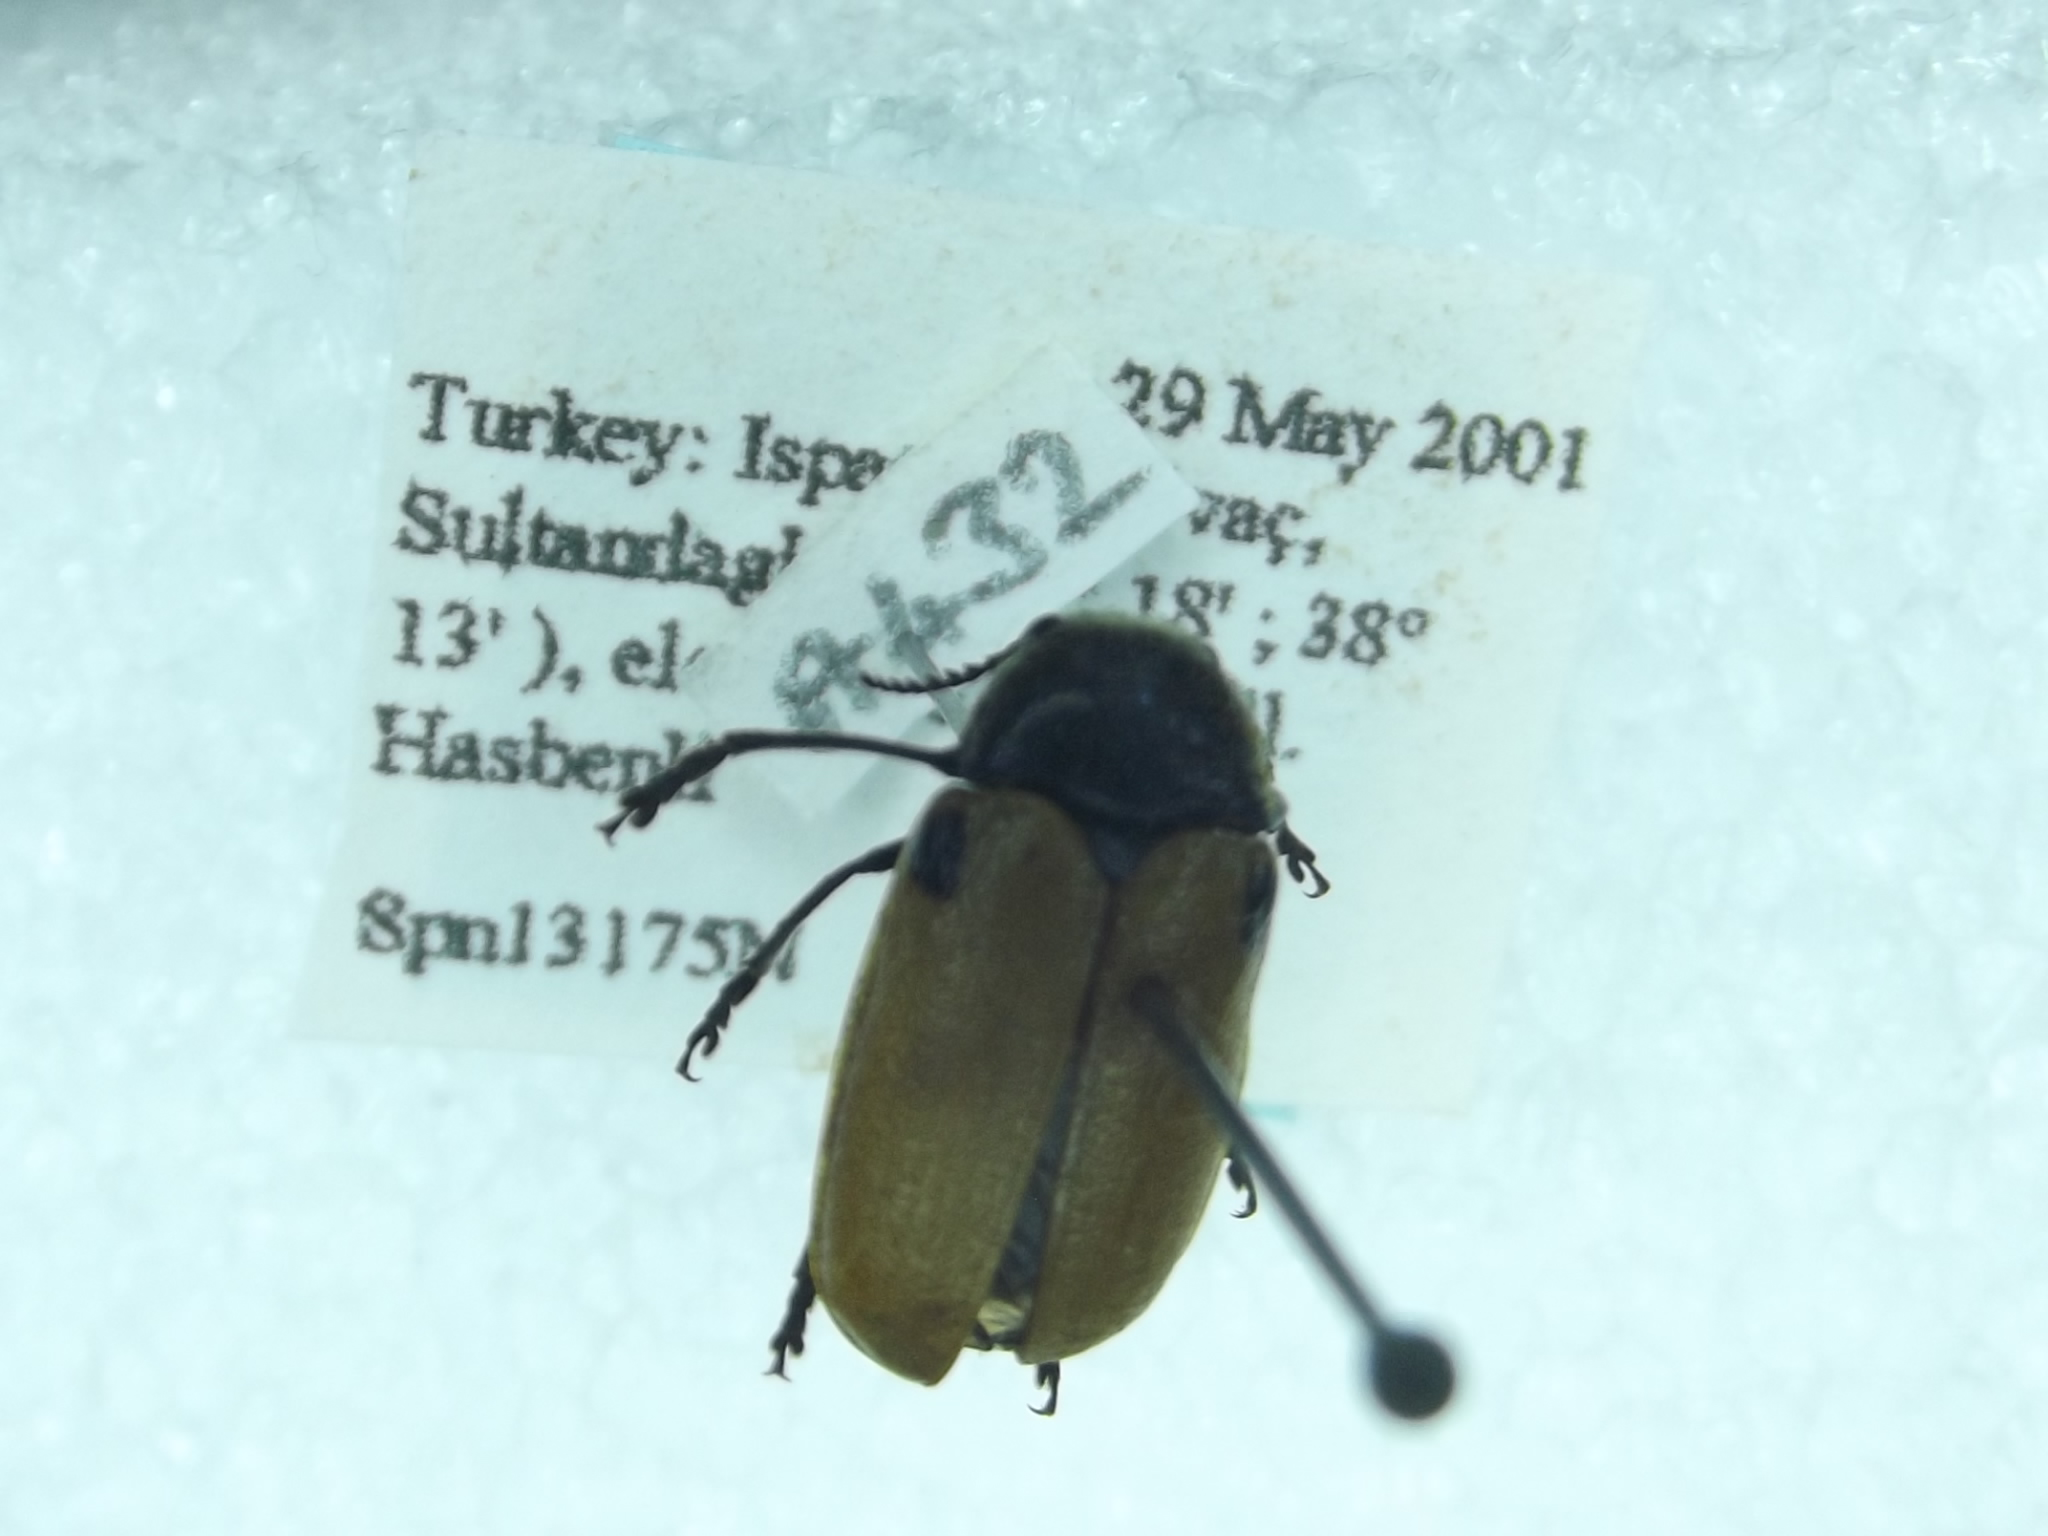Labidostomis_asiatica: (593, 597, 1326, 1439)
